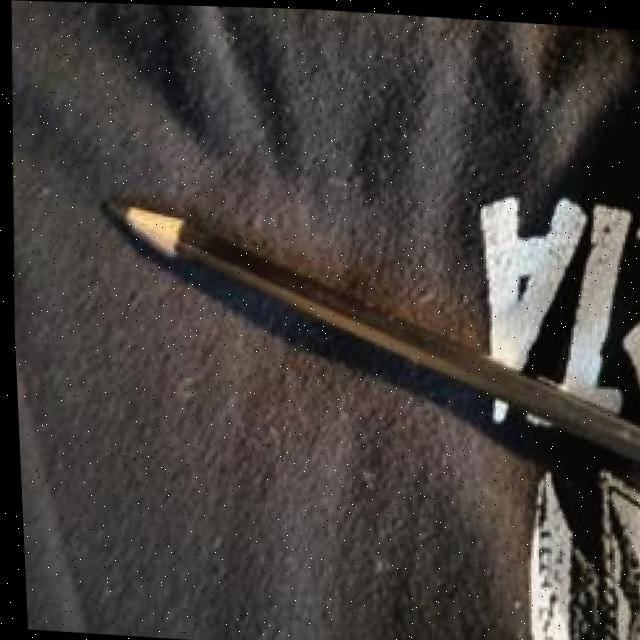pencil: (69, 161, 640, 484)
